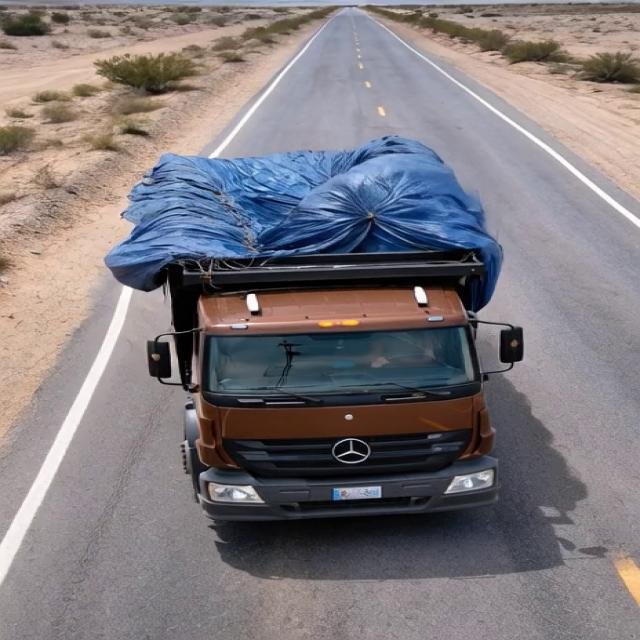Box: (111, 146, 498, 286)
Truck: (97, 113, 530, 538)
